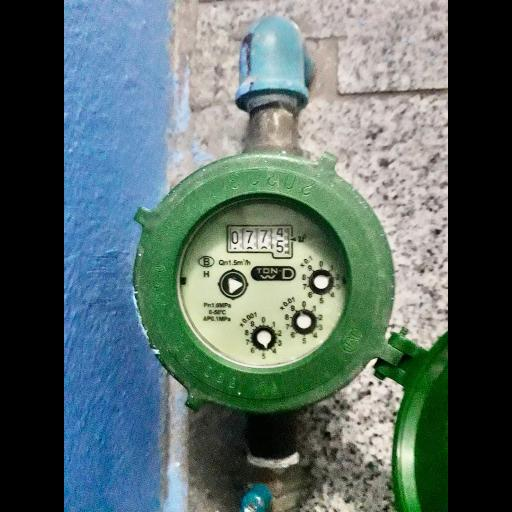0: (229, 229, 243, 250)
4: (271, 227, 289, 255)
7: (257, 228, 272, 249), (243, 228, 257, 249)
border_water_meter_number: (227, 225, 294, 259)
